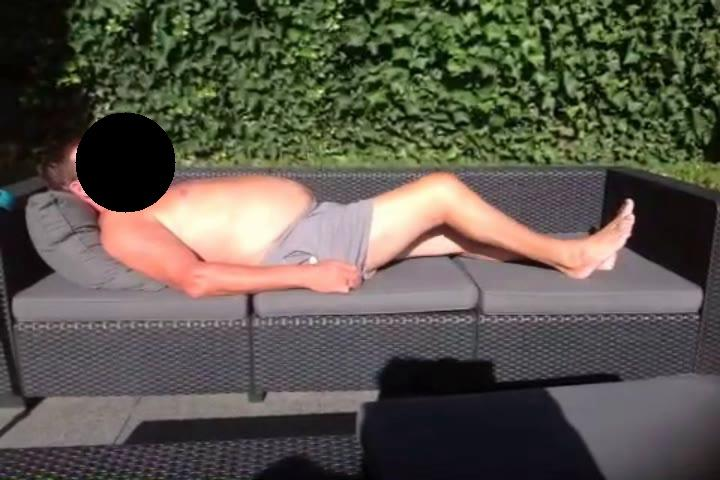lower_body: (292, 171, 637, 283)
